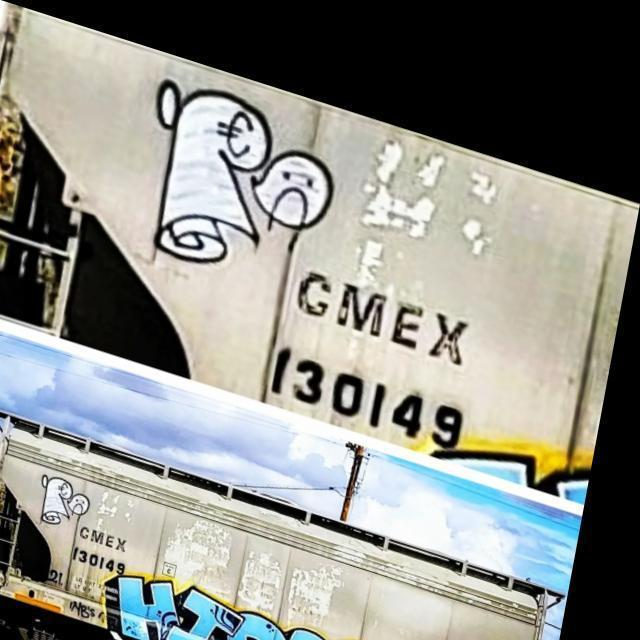nonspitting: (153, 76, 334, 264), (106, 575, 326, 640), (40, 472, 91, 526), (68, 598, 98, 620)
